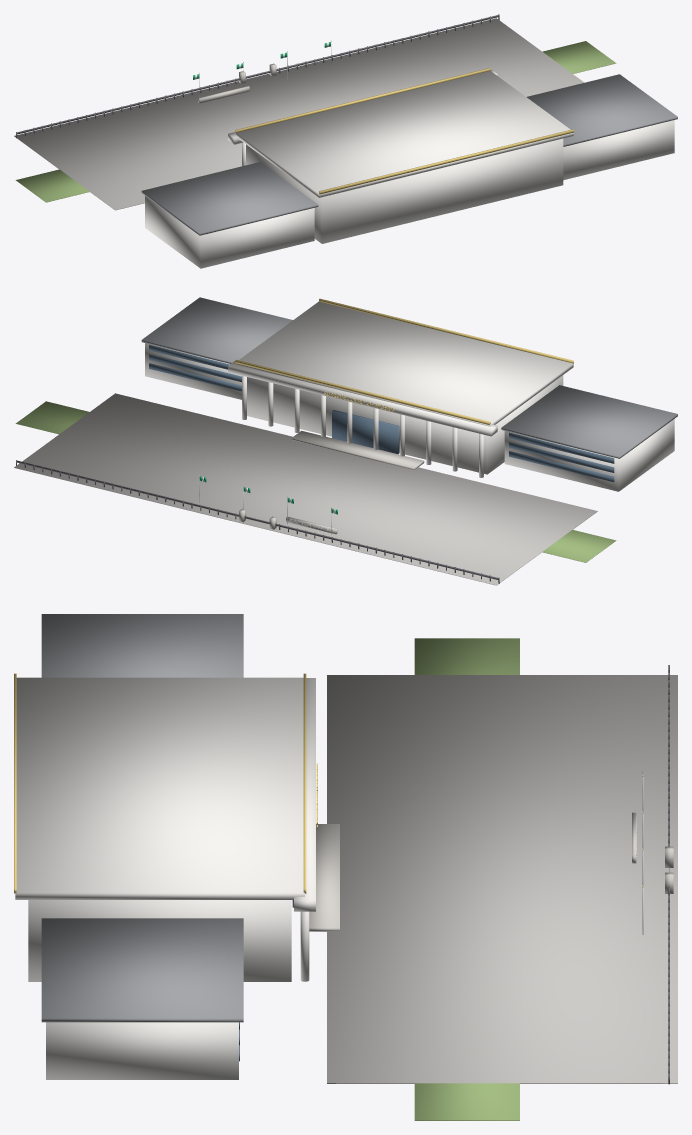
Rendered from supreme_court.glb.
3 renders of one model, top to bottom at view 1: azimuth 30°, elevation 25°; view 2: azimuth 150°, elevation 25°; view 3: azimuth 270°, elevation 25°, orthographic. The views are drawn at different scales.
Visible parts, largest first — view 1: BLD_supreme_court; view 2: BLD_supreme_court; view 3: BLD_supreme_court.
Part boxes in pixels (x1,y1,x2,y2): BLD_supreme_court: [14, 14, 677, 268]; BLD_supreme_court: [14, 297, 677, 585]; BLD_supreme_court: [14, 614, 677, 1120].
Size of the model in its own units: 260 by 24.8 by 151.
